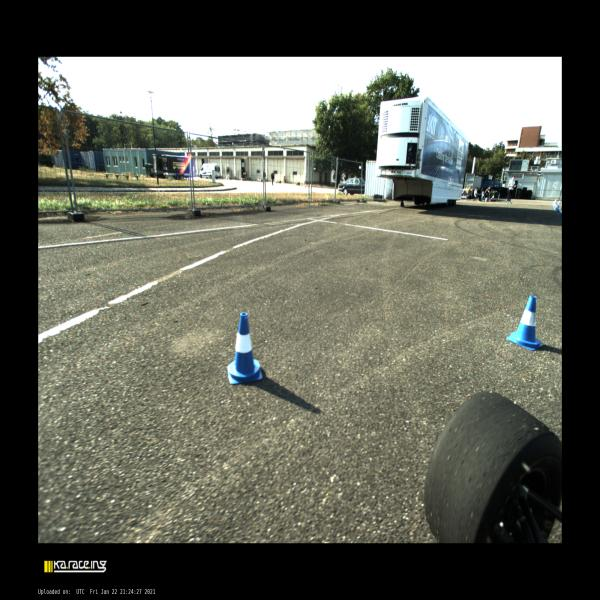blue_cone: (228, 312, 262, 384), (506, 296, 543, 350)
